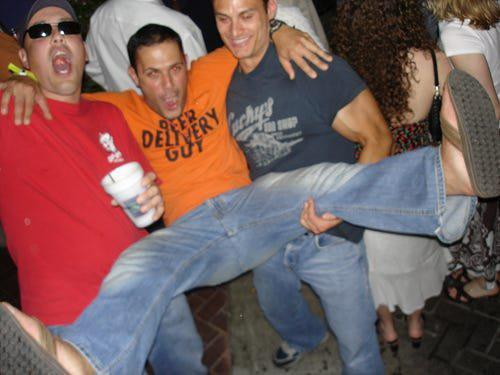Drunk: (29, 10, 86, 93), (134, 43, 190, 118), (209, 0, 266, 60)
